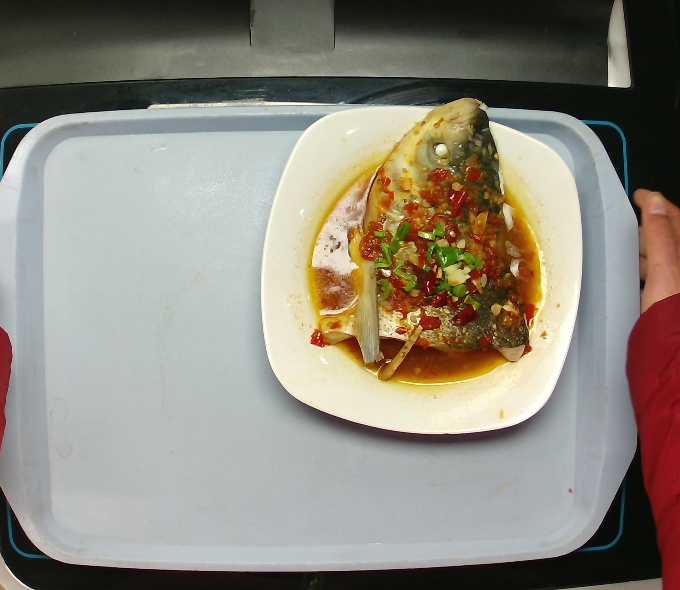wcq-DuoJiaoYuTou: (294, 93, 575, 392)
